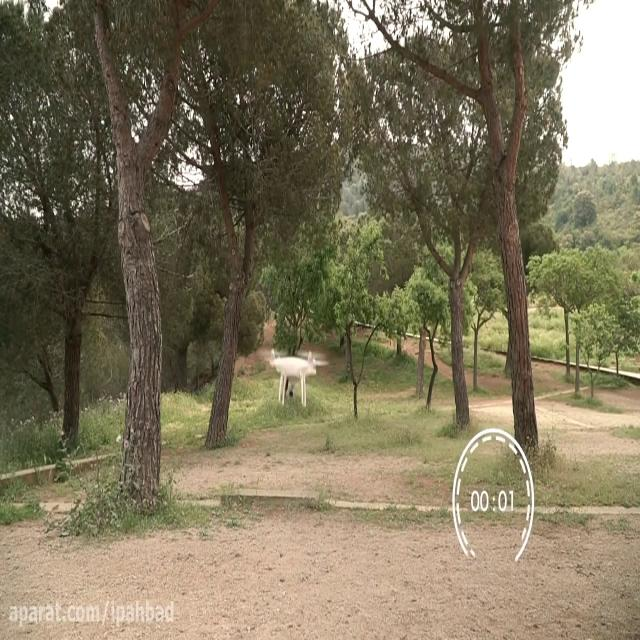drone: (261, 344, 329, 411)
